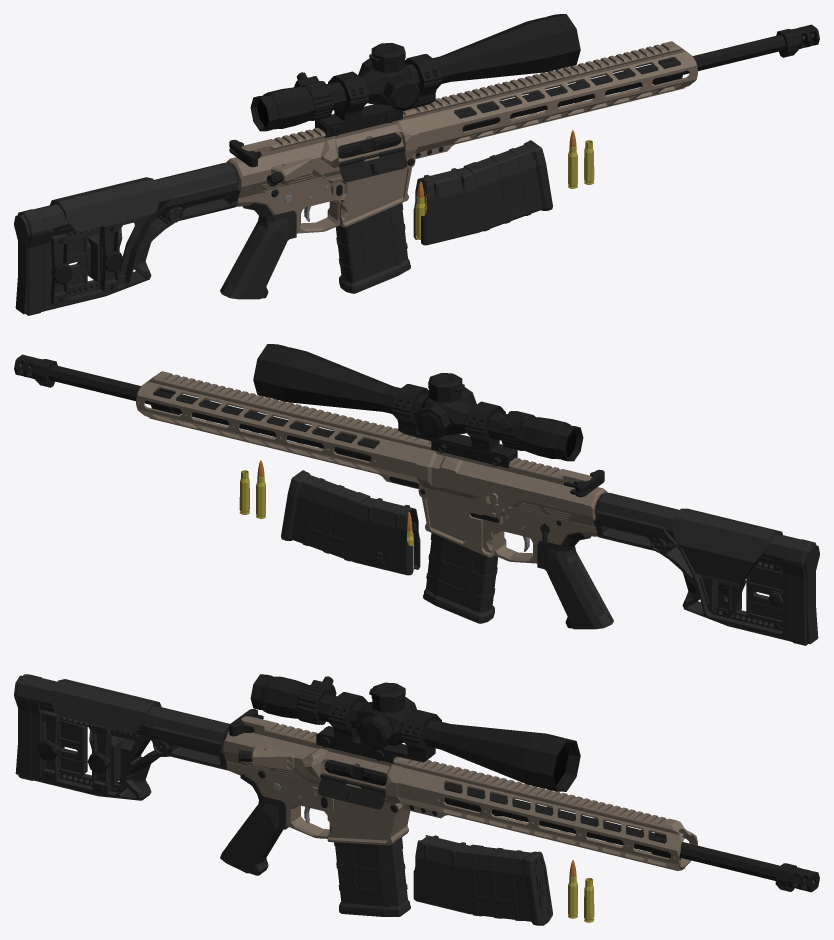
Rendered from uar10.glb.
The picture shows the model from 3 angles, top to bottom: view 1: azimuth 30°, elevation 25°; view 2: azimuth 150°, elevation 25°; view 3: azimuth 330°, elevation 25°; orthographic projection.
Parts seen in each view (by area): view 1: uar10 scope_15, uar10 handguard_10, uar10 stock_16, 76251 ar10 20rnd mag (pmag)_1, uar10 lower_11, uar10 upper_20, 76251 ar10 20rnd mag empty (pmag)_2, uar10 stock cheek_18, uar10 barrel_4, uar10 grip_9, uar10 stock butt_17, uar10 dust cover_8 (+2 smaller); view 2: uar10 scope_15, uar10 handguard_10, 76251 ar10 20rnd mag (pmag)_1, uar10 stock_16, uar10 upper_20, uar10 lower_11, uar10 stock cheek_18, 76251 ar10 20rnd mag empty (pmag)_2, uar10 stock butt_17, uar10 barrel_4, uar10 grip_9, uar10 muzzle device_13 (+1 smaller); view 3: uar10 scope_15, uar10 handguard_10, uar10 stock_16, 76251 ar10 20rnd mag (pmag)_1, uar10 lower_11, uar10 upper_20, 76251 ar10 20rnd mag empty (pmag)_2, uar10 stock cheek_18, uar10 barrel_4, uar10 stock butt_17, uar10 grip_9, uar10 dust cover_8 (+2 smaller).
Part boxes in pixels (x1=…): uar10 scope_15: x1=250, y1=14, x2=580, y2=137; uar10 handguard_10: x1=409, y1=41, x2=697, y2=159; uar10 stock_16: x1=34, y1=162, x2=240, y2=311; 76251 ar10 20rnd mag (pmag)_1: x1=413, y1=140, x2=552, y2=245; uar10 lower_11: x1=225, y1=156, x2=415, y2=233; uar10 upper_20: x1=241, y1=110, x2=417, y2=190; 76251 ar10 20rnd mag empty (pmag)_2: x1=335, y1=203, x2=410, y2=293; uar10 stock cheek_18: x1=50, y1=177, x2=161, y2=282; uar10 barrel_4: x1=400, y1=35, x2=785, y2=139; uar10 grip_9: x1=220, y1=203, x2=296, y2=299; uar10 stock butt_17: x1=14, y1=209, x2=87, y2=315; uar10 dust cover_8: x1=339, y1=147, x2=407, y2=181; uar10 scope_15: x1=253, y1=344, x2=583, y2=468; uar10 handguard_10: x1=136, y1=371, x2=424, y2=489; 76251 ar10 20rnd mag (pmag)_1: x1=281, y1=470, x2=420, y2=575; uar10 stock_16: x1=593, y1=492, x2=799, y2=641; uar10 upper_20: x1=416, y1=440, x2=592, y2=520; uar10 lower_11: x1=418, y1=486, x2=608, y2=563; uar10 stock cheek_18: x1=672, y1=508, x2=782, y2=616; 76251 ar10 20rnd mag empty (pmag)_2: x1=423, y1=533, x2=498, y2=623; uar10 stock butt_17: x1=746, y1=539, x2=819, y2=645; uar10 barrel_4: x1=48, y1=365, x2=379, y2=461; uar10 grip_9: x1=537, y1=533, x2=613, y2=629; uar10 muzzle device_13: x1=14, y1=354, x2=57, y2=387; uar10 scope_15: x1=250, y1=674, x2=580, y2=791; uar10 handguard_10: x1=398, y1=758, x2=697, y2=870; uar10 stock_16: x1=30, y1=678, x2=229, y2=800; 76251 ar10 20rnd mag (pmag)_1: x1=413, y1=835, x2=552, y2=925; uar10 lower_11: x1=222, y1=727, x2=410, y2=845; uar10 upper_20: x1=231, y1=716, x2=405, y2=809; 76251 ar10 20rnd mag empty (pmag)_2: x1=334, y1=837, x2=410, y2=916; uar10 stock cheek_18: x1=50, y1=679, x2=161, y2=784; uar10 barrel_4: x1=444, y1=782, x2=779, y2=880; uar10 stock butt_17: x1=14, y1=674, x2=87, y2=780; uar10 grip_9: x1=220, y1=774, x2=288, y2=875; uar10 dust cover_8: x1=318, y1=774, x2=385, y2=809.
Size of the model in its own units: 10.33 by 2.87 by 0.7935.
